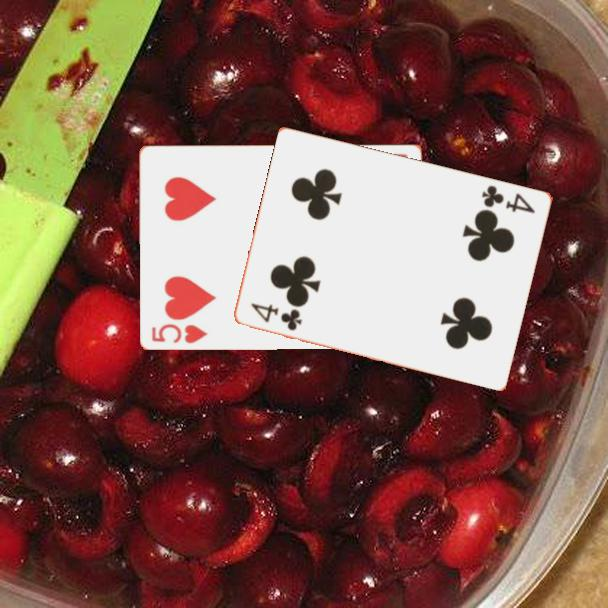c04: (478, 182, 538, 216), (248, 299, 305, 333)
h05: (148, 320, 210, 346)
